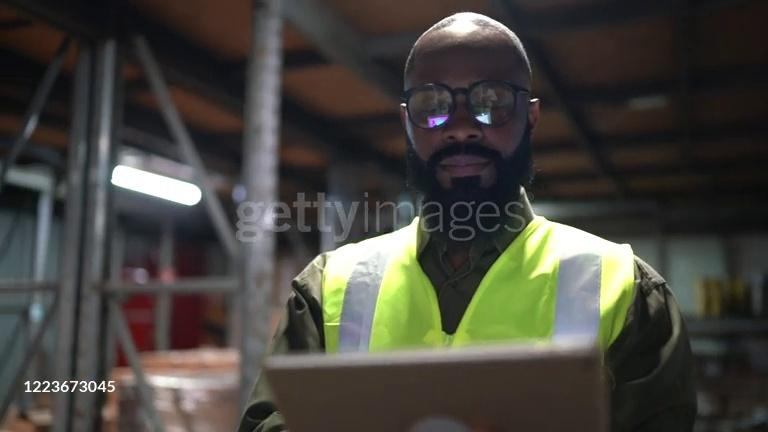person: (237, 13, 699, 432)
